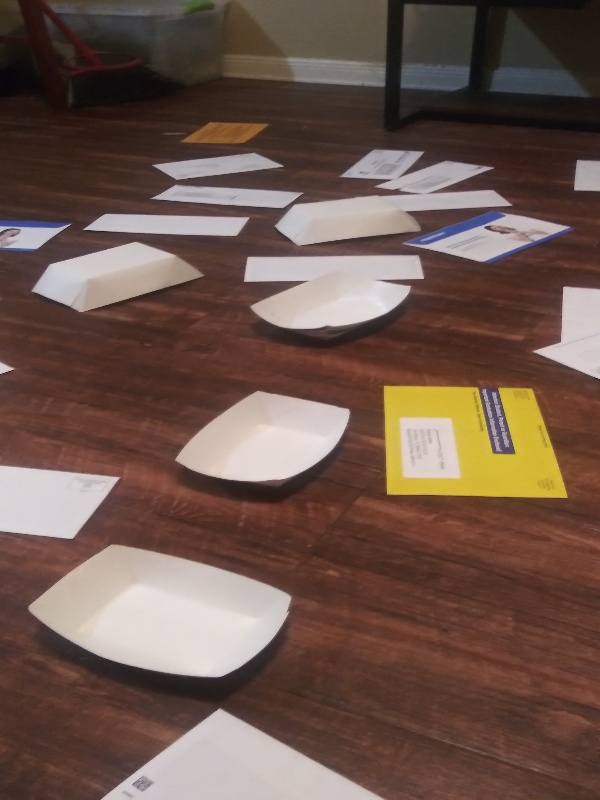plate: (27, 539, 296, 685), (171, 389, 357, 494), (27, 239, 207, 319), (246, 268, 414, 342), (269, 193, 427, 249)
